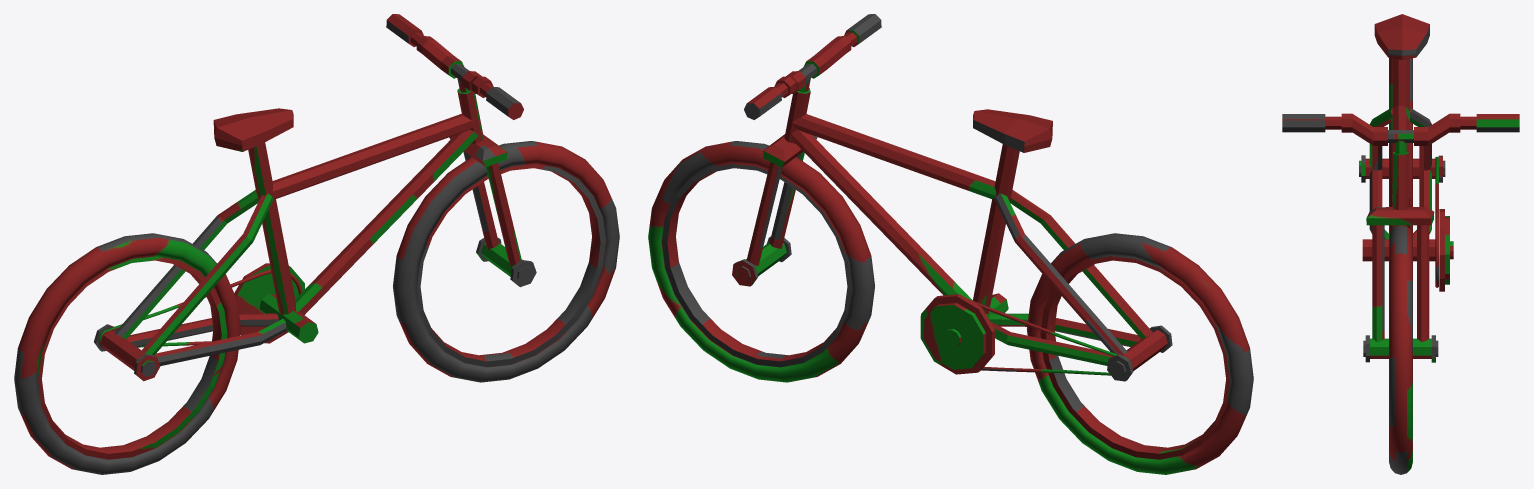
The model's file is BikeStatic.fbx.
The picture shows the model from 3 angles, left to right: view 1: azimuth 30°, elevation 25°; view 2: azimuth 150°, elevation 25°; view 3: azimuth 270°, elevation 25°; orthographic projection. The views are drawn at different scales.
Parts seen in each view (by area): view 1: bike; view 2: bike; view 3: bike.
Boxes of the visible parts, x1,y1,x2,y2 form: bike: (14,14,619,474); bike: (648,14,1253,474); bike: (1282,14,1519,474).
Bounding box in the file's own units: 1.23 × 0.4306 × 0.6507.
